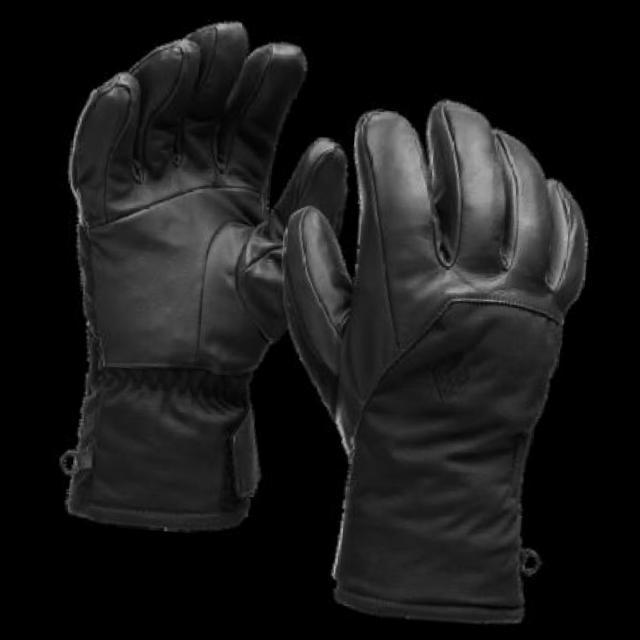gloved_hand: (31, 9, 360, 544), (266, 90, 581, 636)
